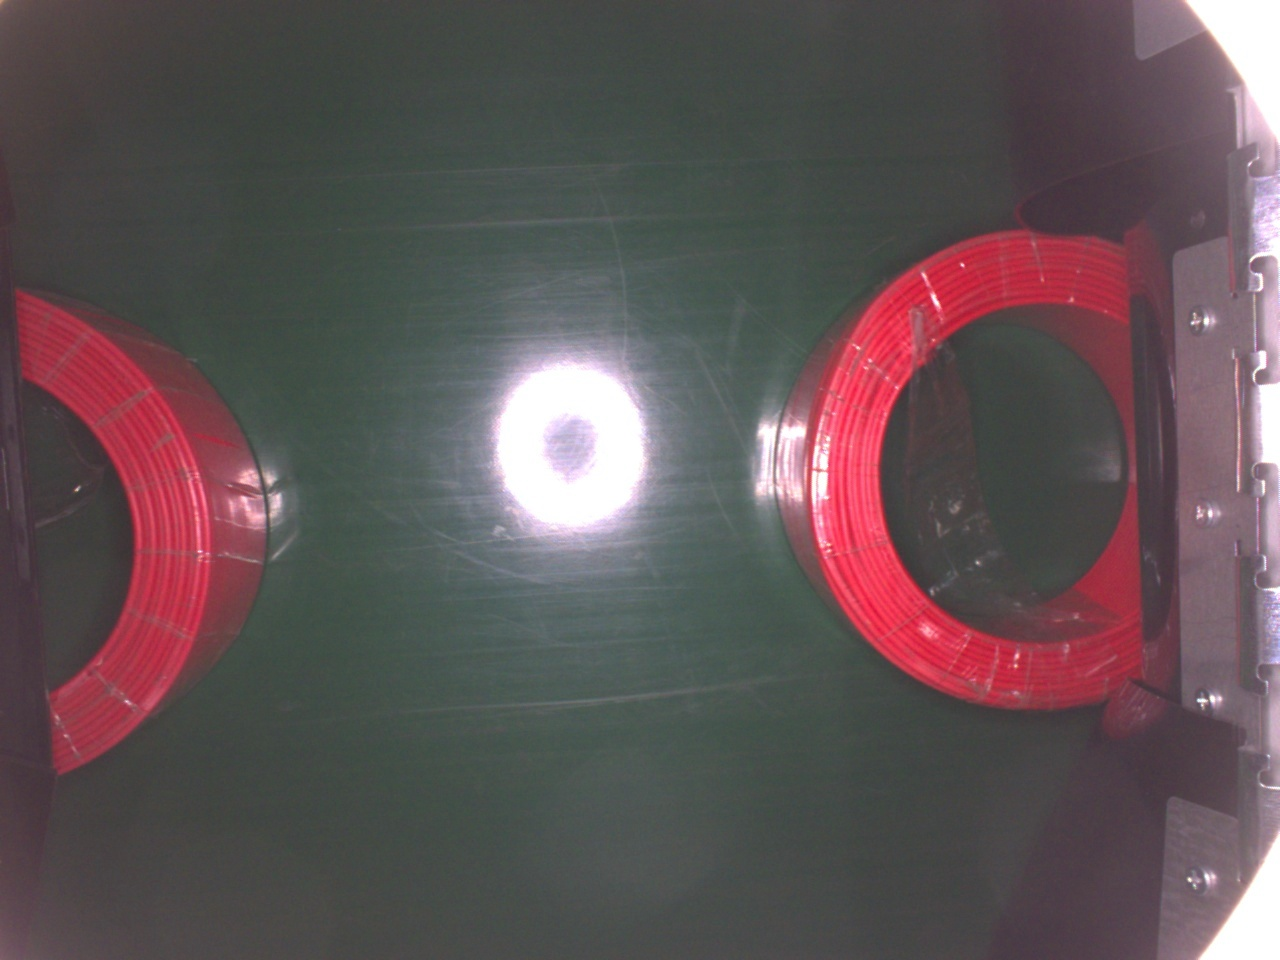red: (772, 224, 1144, 711), (11, 283, 271, 776)
